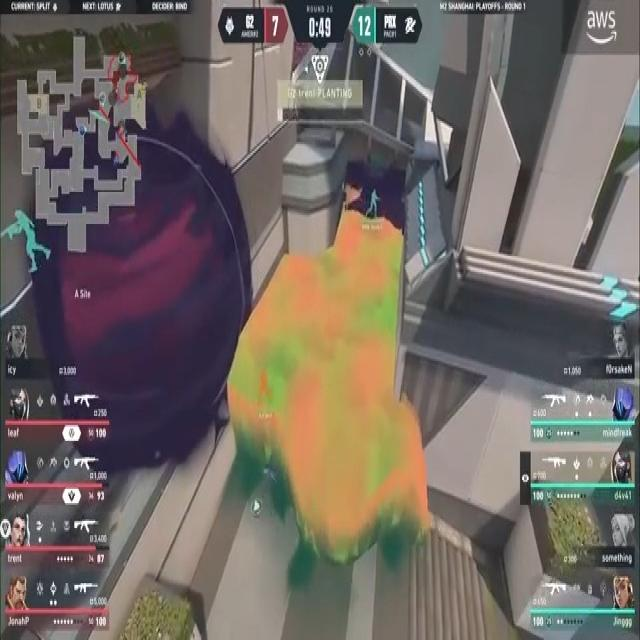ally behind wall: (4, 203, 51, 287), (368, 187, 380, 221)
smoke: (36, 139, 236, 443)
